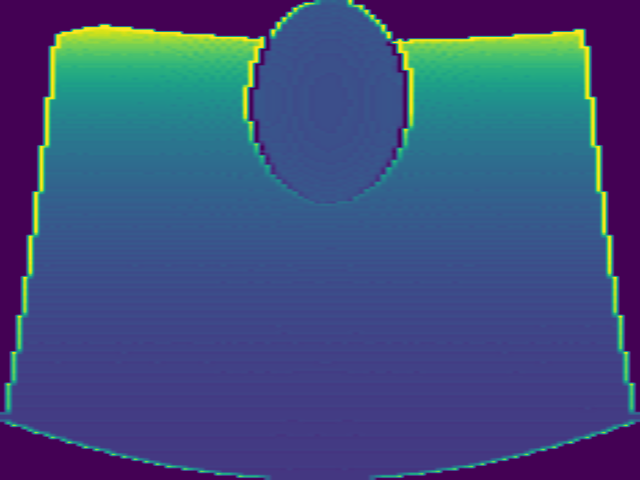sphere: (242, 1, 414, 205)
